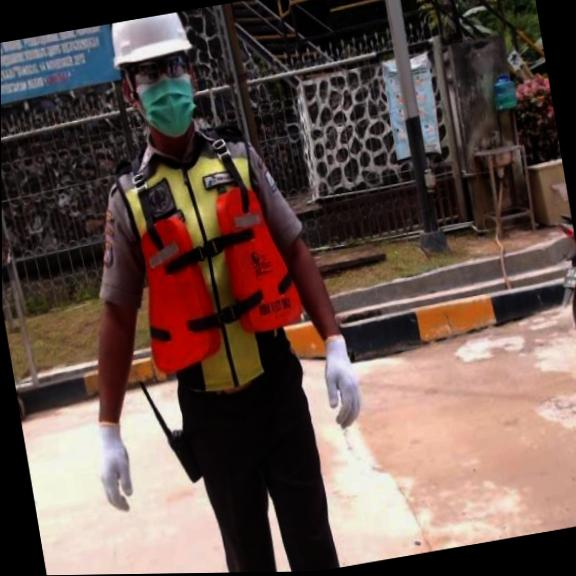safety_vest: (119, 182, 315, 378)
